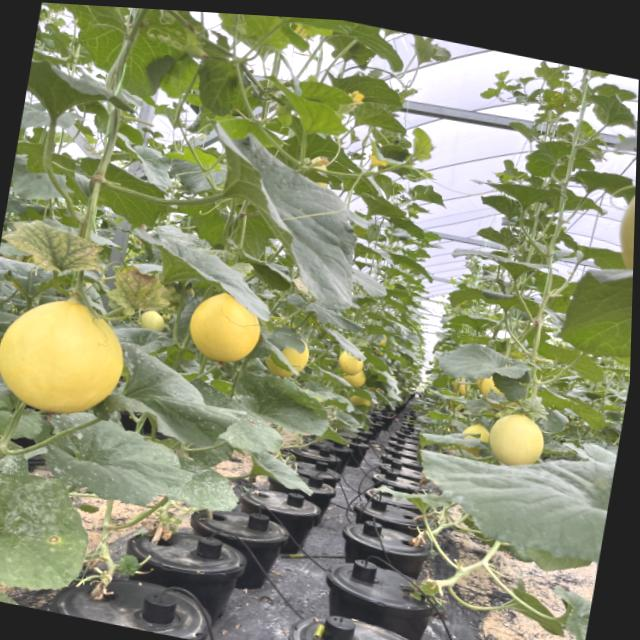CMV: (0, 213, 107, 284)
alternaria leaf blight: (101, 261, 175, 320), (533, 85, 583, 121)
downy mildew: (100, 341, 244, 457), (526, 58, 578, 88)
healthy: (184, 123, 390, 324), (430, 425, 617, 572), (27, 407, 196, 515), (33, 2, 198, 106), (120, 219, 282, 324), (540, 245, 634, 368), (23, 55, 143, 132), (68, 157, 176, 236), (256, 74, 360, 146), (230, 370, 337, 439), (184, 51, 266, 124), (322, 68, 410, 134), (433, 335, 532, 392), (112, 131, 187, 201), (464, 172, 575, 216), (208, 12, 304, 62), (335, 22, 415, 78), (8, 154, 79, 210), (578, 88, 638, 136), (520, 132, 574, 185), (572, 162, 633, 203), (280, 17, 374, 41), (408, 126, 437, 165)
powdery mildew: (0, 466, 93, 604), (0, 574, 26, 606)
